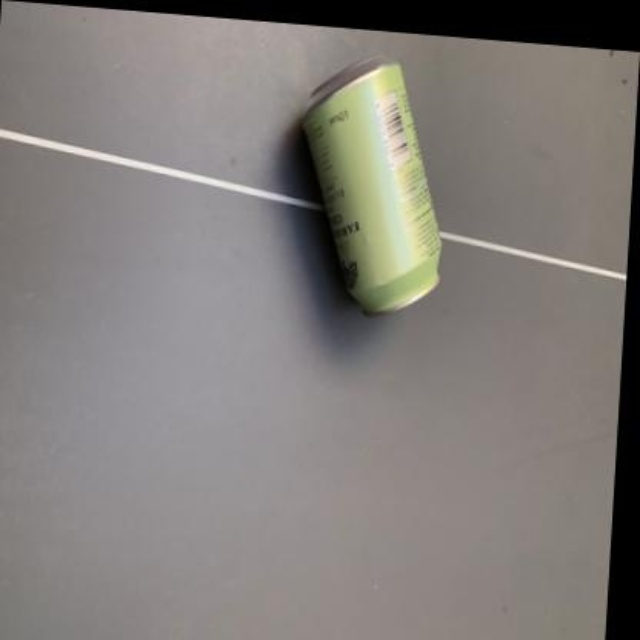trash: (303, 57, 440, 311)
